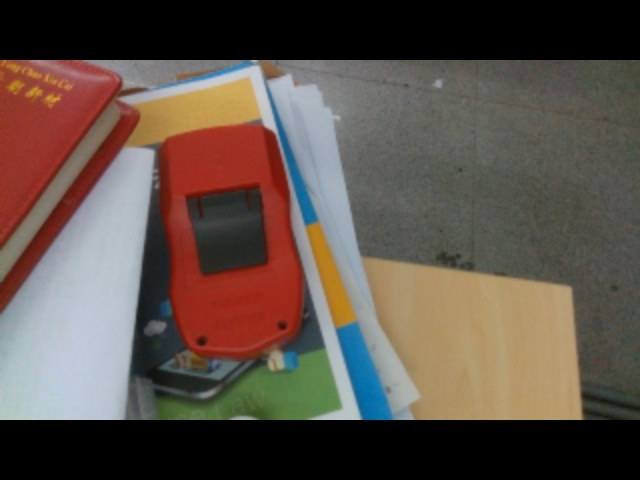Multimeter: (161, 122, 308, 358)
Screw holes: (194, 335, 210, 347), (277, 318, 290, 330)
